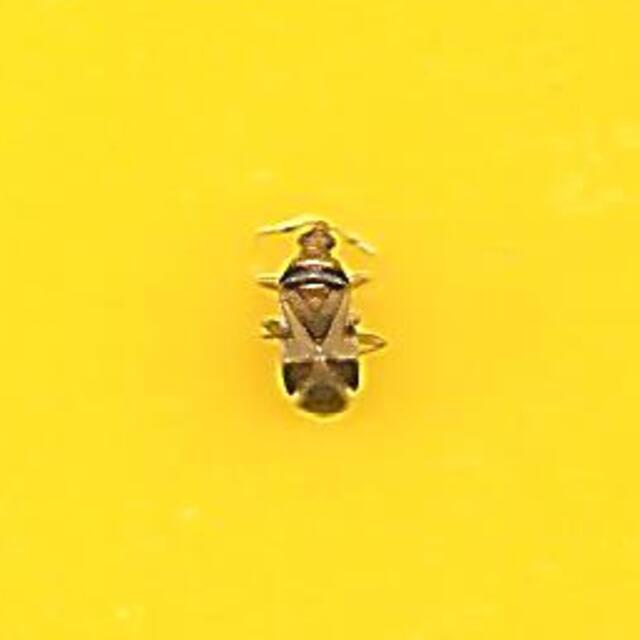Hemiptera: (249, 218, 391, 422)
